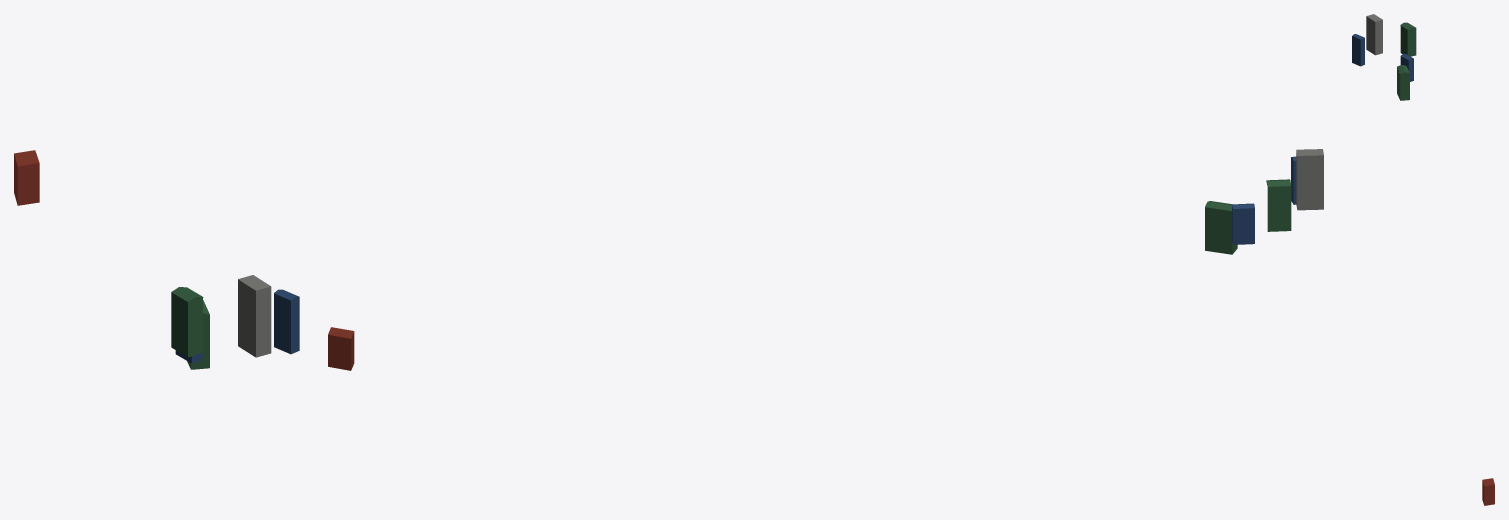
File: near-15-27366-14882.6302316c.glb
3 renders of one model, left to right at view 1: azimuth 90°, elevation 25°; view 2: azimuth 150°, elevation 25°; view 3: azimuth 270°, elevation 25°, orthographic. The views are drawn at different scales.
Size of the model in its own units: 501 by 190 by 112.
